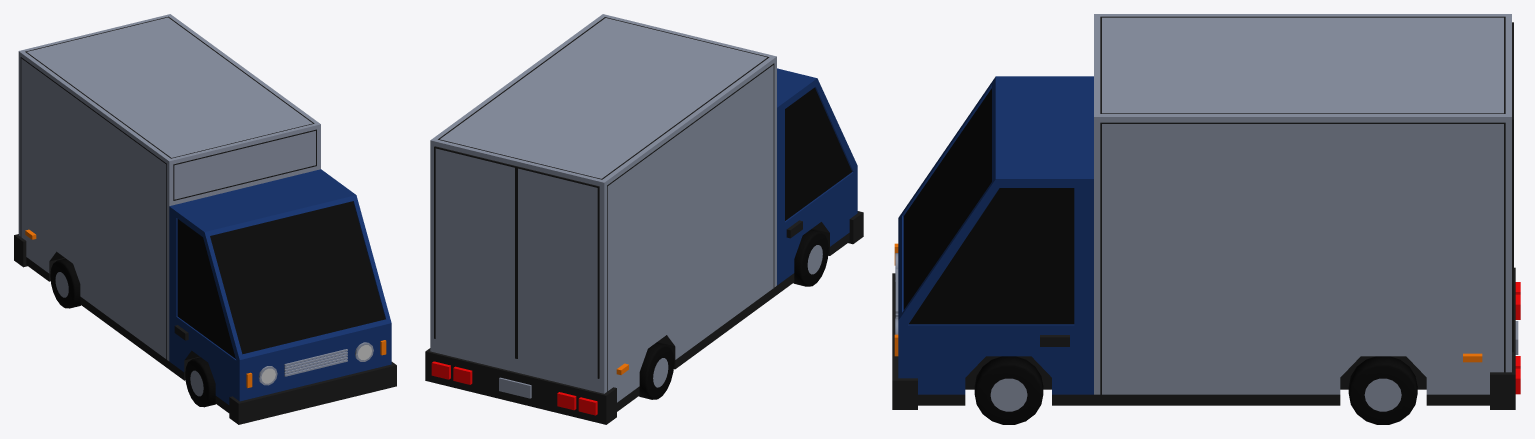
The model's file is TRUCK_BLUE.FBX.
3 renders of one model, left to right at view 1: azimuth 30°, elevation 25°; view 2: azimuth 150°, elevation 25°; view 3: azimuth 270°, elevation 25°, orthographic. The views are drawn at different scales.
Visible parts, largest first — view 1: TRUCK_BLUE, TRUCK_WHEEL_FR, TRUCK_WHEEL_BR; view 2: TRUCK_BLUE, TRUCK_ DOOR_2, TRUCK_ DOOR_1, TRUCK_WHEEL_BR, TRUCK_WHEEL_FR; view 3: TRUCK_BLUE, TRUCK_WHEEL_BL, TRUCK_WHEEL_FL.
Boxes of the visible parts, x1,y1,x2,y2 form: TRUCK_BLUE: (14, 14, 396, 424); TRUCK_WHEEL_FR: (185, 357, 215, 407); TRUCK_WHEEL_BR: (50, 258, 80, 308); TRUCK_BLUE: (425, 14, 863, 424); TRUCK_ DOOR_2: (516, 166, 599, 378); TRUCK_ DOOR_1: (434, 146, 516, 358); TRUCK_WHEEL_BR: (639, 342, 674, 399); TRUCK_WHEEL_FR: (793, 229, 828, 286); TRUCK_BLUE: (892, 14, 1520, 409); TRUCK_WHEEL_BL: (1348, 356, 1417, 424); TRUCK_WHEEL_FL: (974, 356, 1043, 424).
Bounding box in the file's own units: 2.75 × 3.64 × 6.75.
